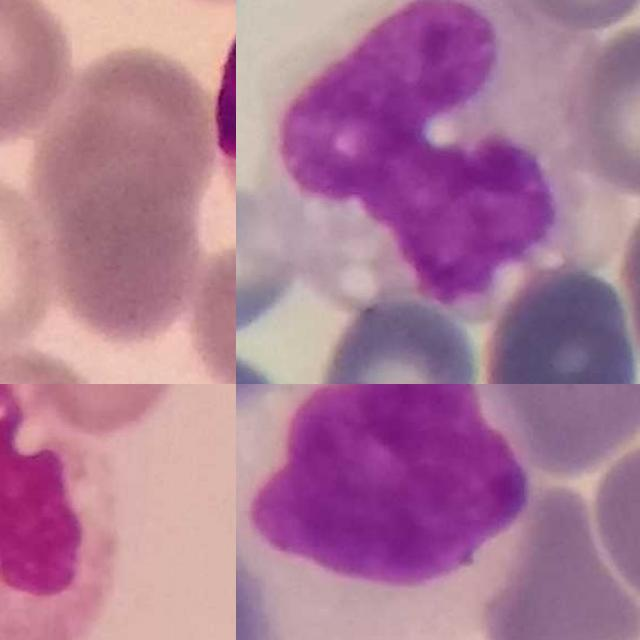Monocyte: (251, 0, 622, 312), (236, 384, 533, 640), (0, 384, 115, 640)
